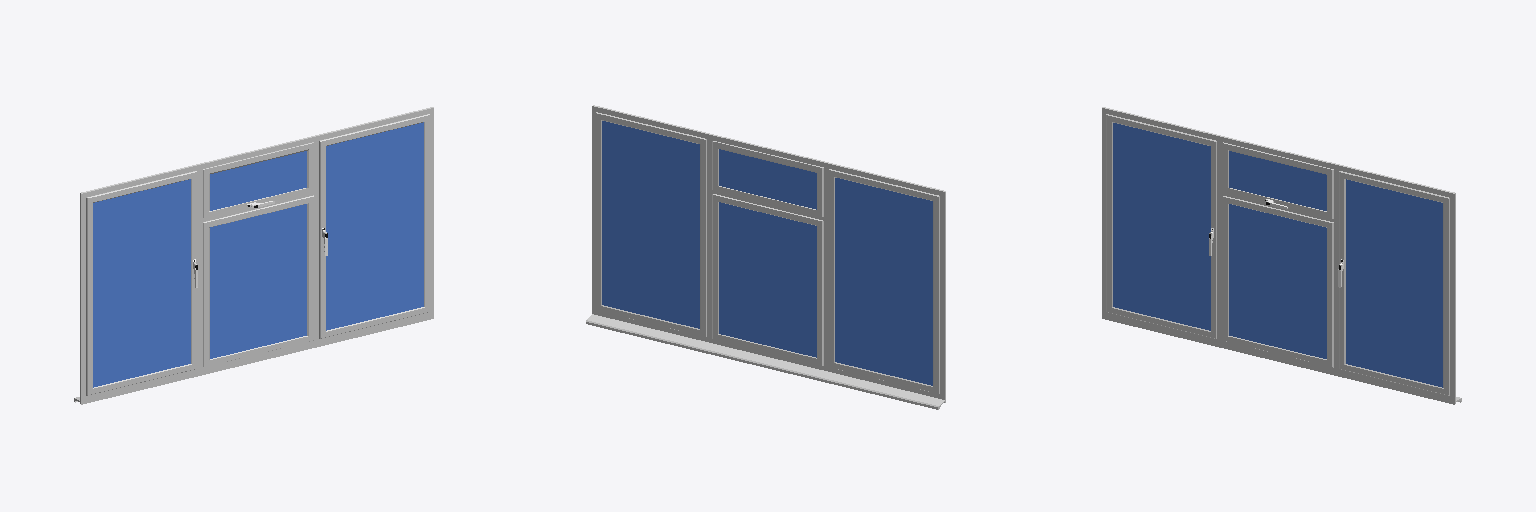
The model's file is uacc8d9d1-e6af-431e-8fbb-77d9462580f7.obj.
3 renders of one model, left to right at view 1: azimuth 30°, elevation 25°; view 2: azimuth 150°, elevation 25°; view 3: azimuth 330°, elevation 25°, orthographic.
Parts seen in each view (by area): view 1: Mesh11_Glass3_Component_1_2_Component_2_1_Model, Mesh4_Glass1_Component_1_1_Component_2_1_Model.002, Mesh7_Glass2_Component_3_1_Component_2_1_Model, Mesh16_Component_2_1_Model, Mesh1_Frame1_Component_1_1_Component_2_1_Model.002, Mesh8_Frame2_Component_1_2_Component_2_1_Model, Mesh14_Glass4_Component_4_1_Component_2_1_Model, Mesh5_Frame_1_1_Component_3_1_Component_2_1_Model, Mesh12_Frame_2_1_Component_4_1_Component_2_1_Model; view 2: Mesh10_Glass3_Component_1_2_Component_2_1_Model, Mesh3_Glass1_Component_1_1_Component_2_1_Model.002, Mesh6_Glass2_Component_3_1_Component_2_1_Model, Mesh16_Component_2_1_Model, Mesh1_Frame1_Component_1_1_Component_2_1_Model.002, Mesh8_Frame2_Component_1_2_Component_2_1_Model, Mesh13_Glass4_Component_4_1_Component_2_1_Model, Mesh5_Frame_1_1_Component_3_1_Component_2_1_Model, Mesh12_Frame_2_1_Component_4_1_Component_2_1_Model; view 3: Mesh11_Glass3_Component_1_2_Component_2_1_Model, Mesh4_Glass1_Component_1_1_Component_2_1_Model.002, Mesh7_Glass2_Component_3_1_Component_2_1_Model, Mesh16_Component_2_1_Model, Mesh1_Frame1_Component_1_1_Component_2_1_Model.002, Mesh8_Frame2_Component_1_2_Component_2_1_Model, Mesh14_Glass4_Component_4_1_Component_2_1_Model, Mesh5_Frame_1_1_Component_3_1_Component_2_1_Model, Mesh12_Frame_2_1_Component_4_1_Component_2_1_Model.
Part boxes in pixels (x1,y1,x2,y2): Mesh11_Glass3_Component_1_2_Component_2_1_Model: (93,179,190,387); Mesh4_Glass1_Component_1_1_Component_2_1_Model.002: (326,122,423,330); Mesh7_Glass2_Component_3_1_Component_2_1_Model: (210,204,306,358); Mesh16_Component_2_1_Model: (74,107,433,404); Mesh1_Frame1_Component_1_1_Component_2_1_Model.002: (319,114,429,338); Mesh8_Frame2_Component_1_2_Component_2_1_Model: (86,171,196,395); Mesh14_Glass4_Component_4_1_Component_2_1_Model: (210,151,306,210); Mesh5_Frame_1_1_Component_3_1_Component_2_1_Model: (203,195,313,366); Mesh12_Frame_2_1_Component_4_1_Component_2_1_Model: (203,142,313,217); Mesh10_Glass3_Component_1_2_Component_2_1_Model: (835,178,932,385); Mesh3_Glass1_Component_1_1_Component_2_1_Model.002: (602,121,699,328); Mesh6_Glass2_Component_3_1_Component_2_1_Model: (719,202,816,357); Mesh16_Component_2_1_Model: (586,105,945,409); Mesh1_Frame1_Component_1_1_Component_2_1_Model.002: (596,112,706,336); Mesh8_Frame2_Component_1_2_Component_2_1_Model: (829,169,939,393); Mesh13_Glass4_Component_4_1_Component_2_1_Model: (719,149,816,209); Mesh5_Frame_1_1_Component_3_1_Component_2_1_Model: (712,194,823,365); Mesh12_Frame_2_1_Component_4_1_Component_2_1_Model: (712,141,823,216); Mesh11_Glass3_Component_1_2_Component_2_1_Model: (1113,123,1210,330); Mesh4_Glass1_Component_1_1_Component_2_1_Model.002: (1346,179,1442,387); Mesh7_Glass2_Component_3_1_Component_2_1_Model: (1229,204,1326,358); Mesh16_Component_2_1_Model: (1102,107,1461,404); Mesh1_Frame1_Component_1_1_Component_2_1_Model.002: (1339,171,1449,395); Mesh8_Frame2_Component_1_2_Component_2_1_Model: (1106,114,1216,338); Mesh14_Glass4_Component_4_1_Component_2_1_Model: (1229,151,1326,210); Mesh5_Frame_1_1_Component_3_1_Component_2_1_Model: (1223,196,1333,367); Mesh12_Frame_2_1_Component_4_1_Component_2_1_Model: (1223,142,1333,218).
Size of the model in its own units: 6.8 by 3.93 by 0.4036.